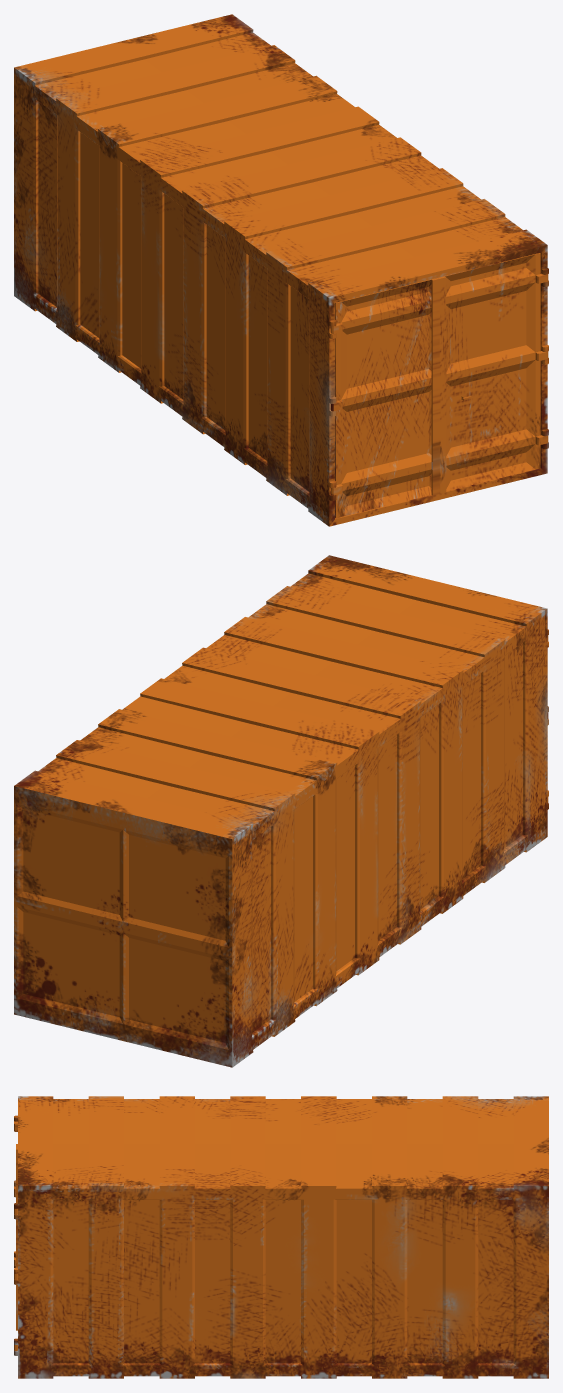
The model's file is Container.fbx.
The picture shows the model from 3 angles, top to bottom: view 1: azimuth 30°, elevation 25°; view 2: azimuth 150°, elevation 25°; view 3: azimuth 270°, elevation 25°; orthographic projection. The views are drawn at different scales.
Parts seen in each view (by area): view 1: Container, Door-Handle, Door; view 2: Container; view 3: Container, Door-Handle.
Part boxes in pixels (x1,y1,x2,y2): Container: (14, 14, 548, 526); Door-Handle: (431, 253, 548, 495); Door: (331, 278, 437, 518); Container: (14, 555, 548, 1067); Container: (14, 1096, 548, 1378); Door-Handle: (14, 1144, 17, 1350).
Bounding box in the file's own units: 400 × 400 × 1007.
1 material, 1 textured.
